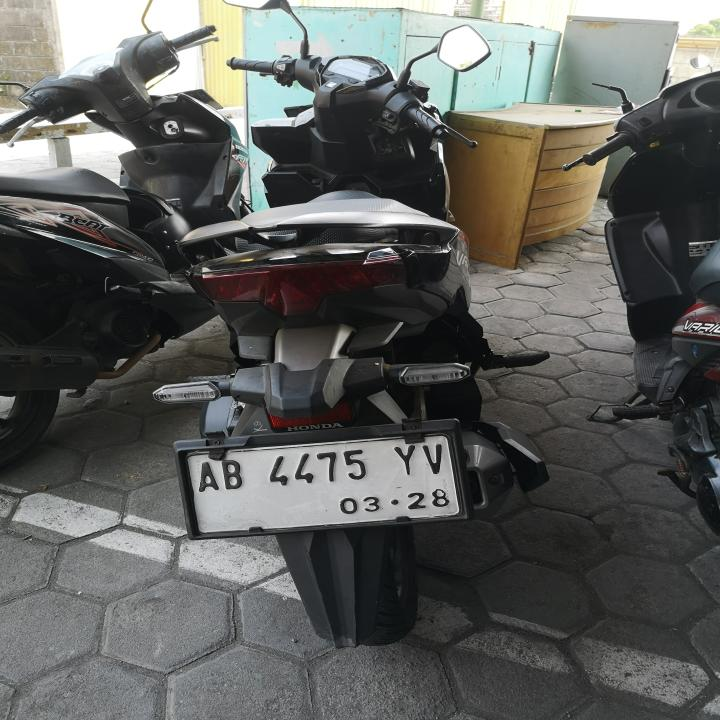plate: (185, 432, 463, 534)
